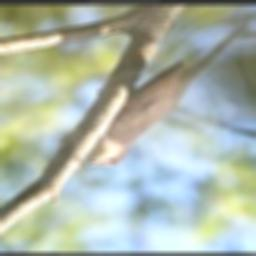Cuckoo: (84, 22, 247, 168)
